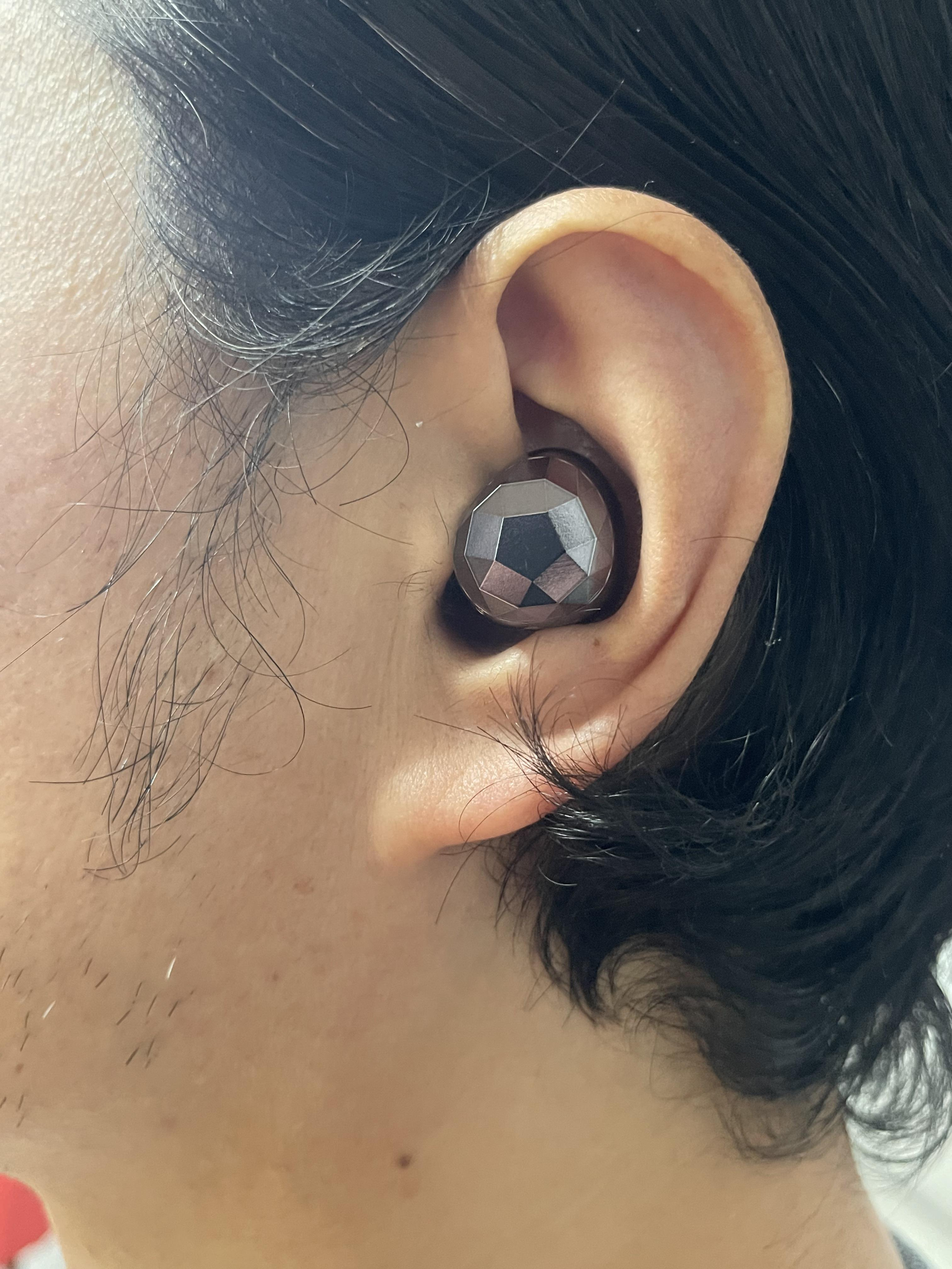earphone: (432, 438, 641, 657)
